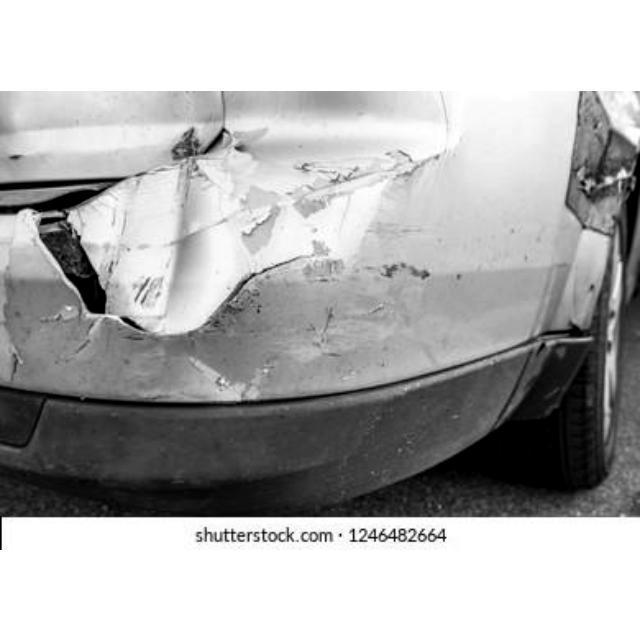rear-bumper-dent: (0, 205, 564, 505)
